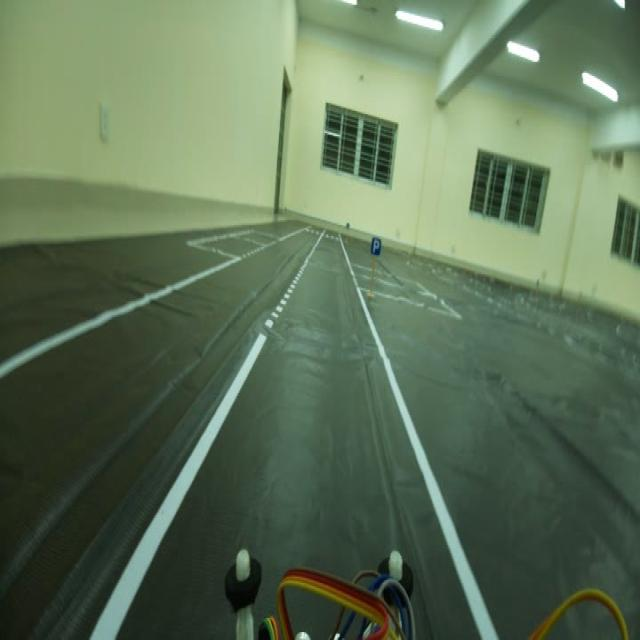parking: (362, 224, 388, 264)
